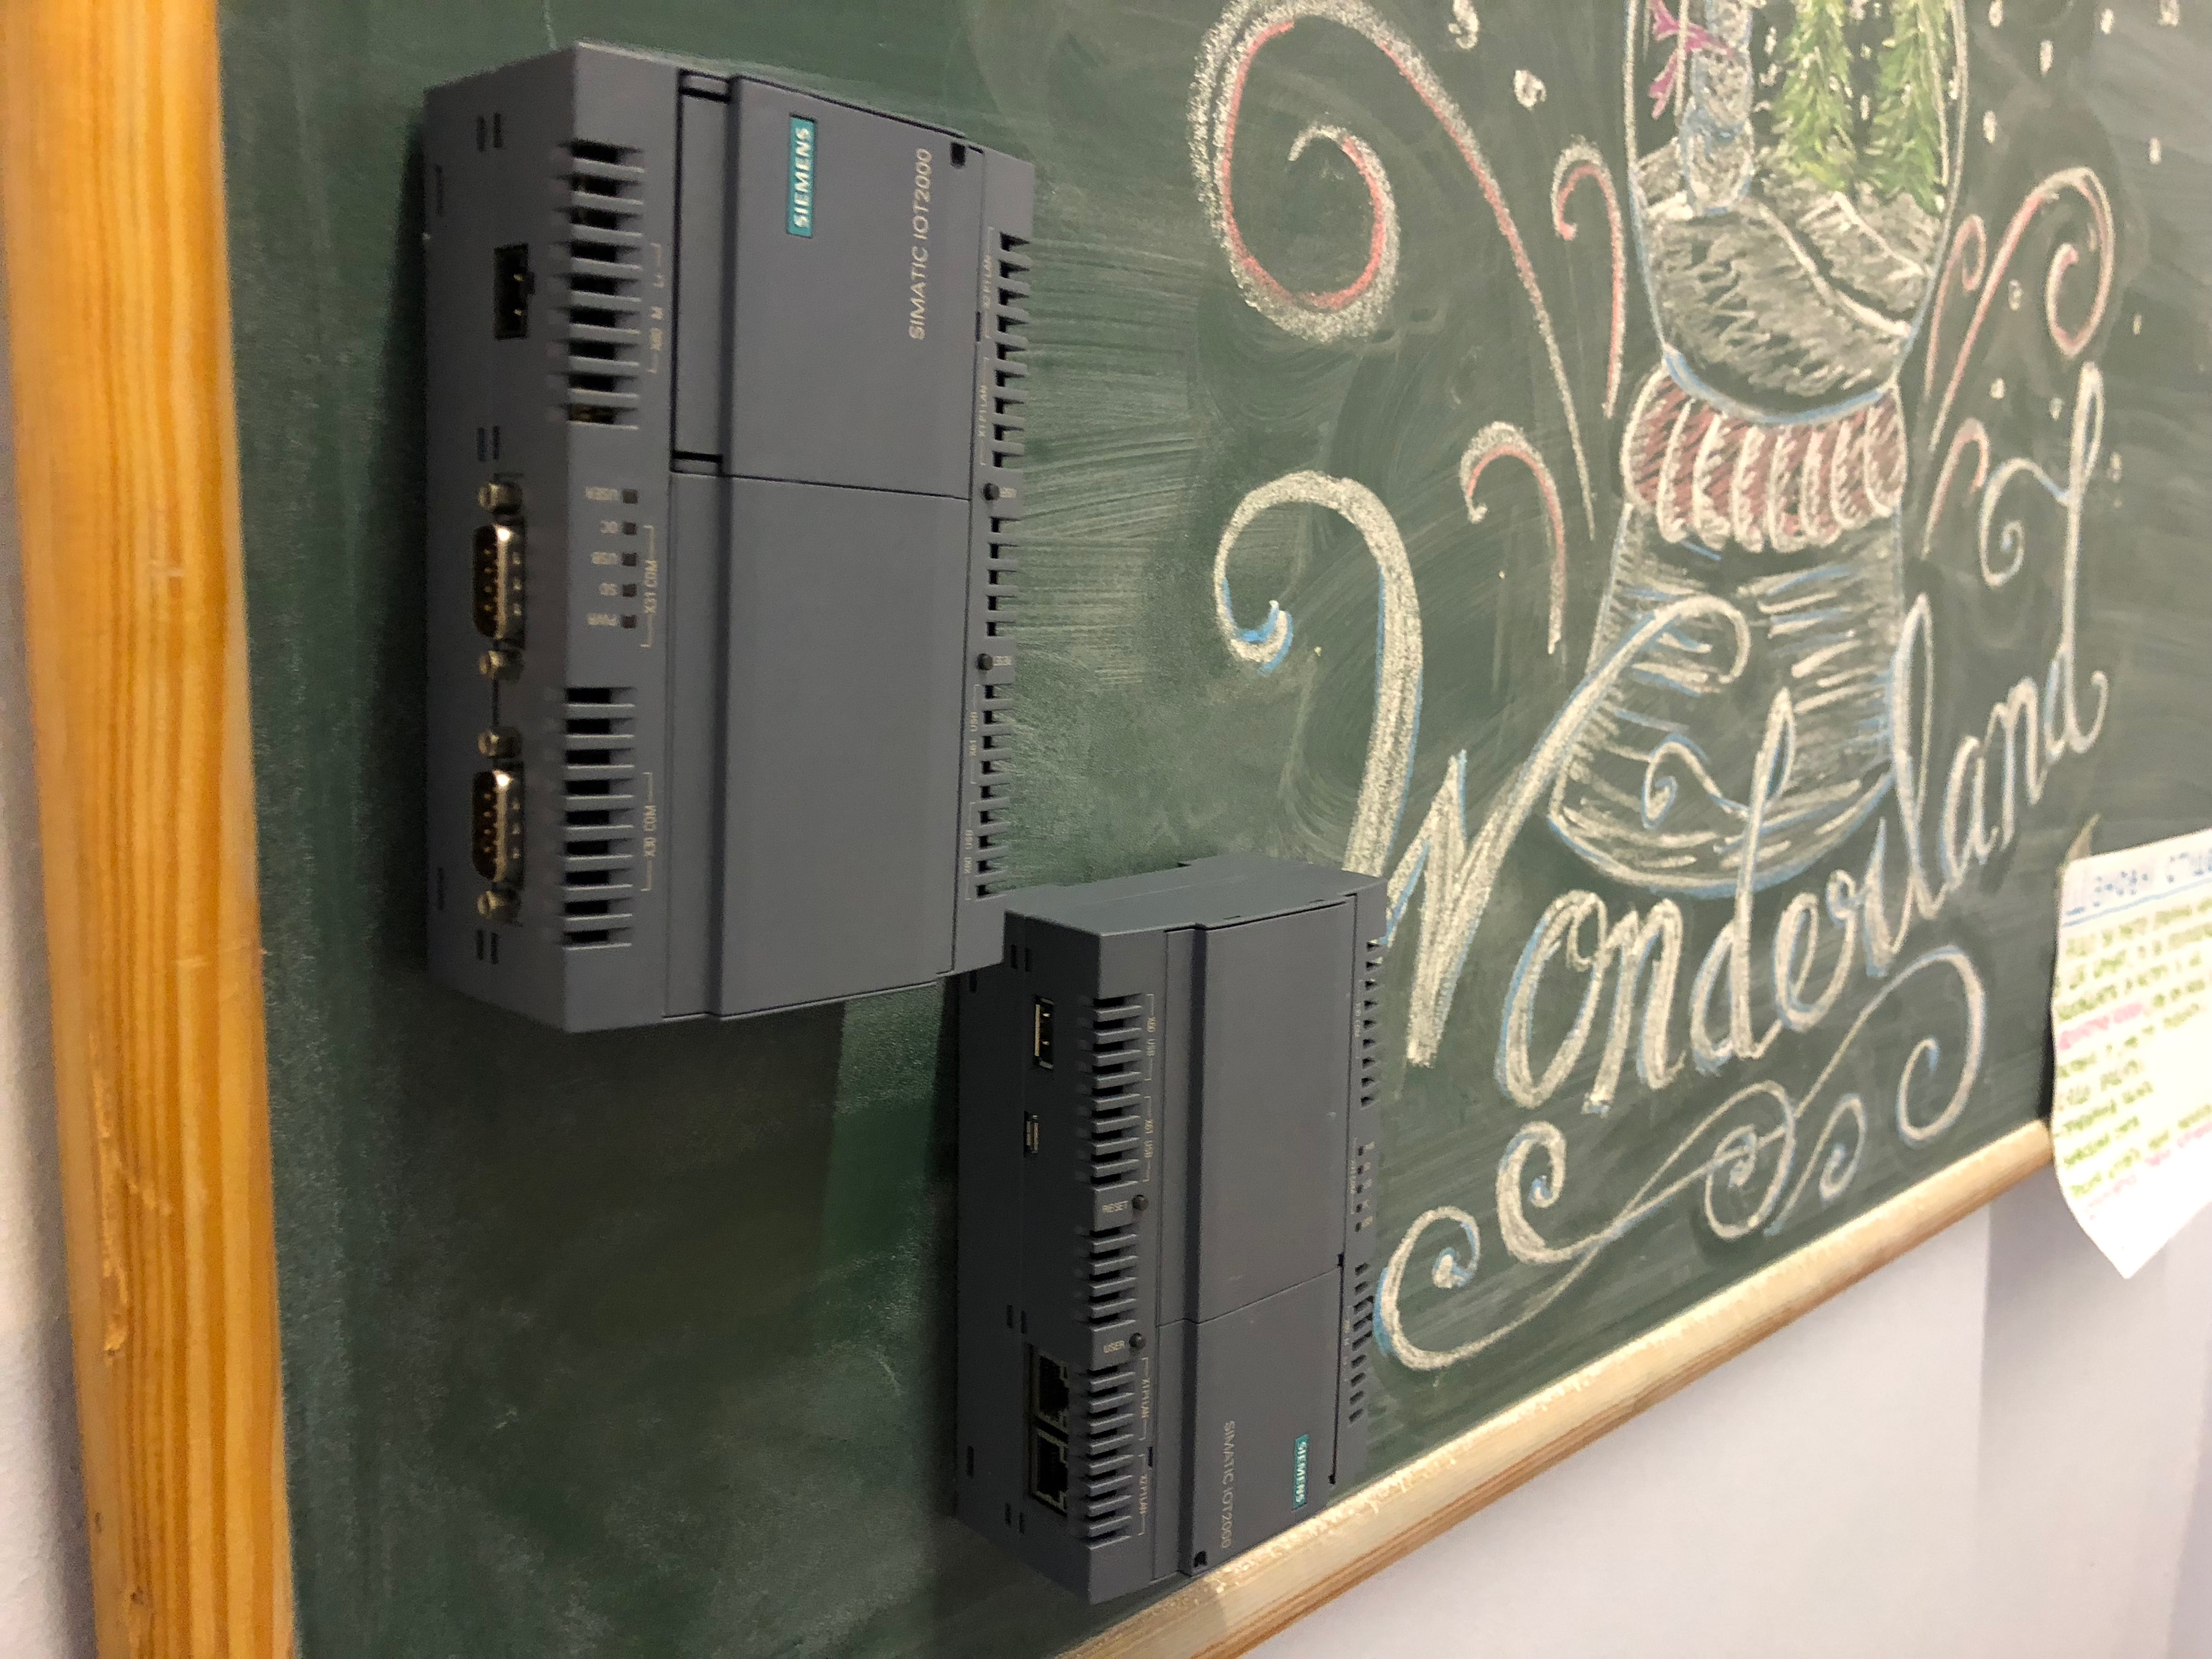device: (425, 40, 1036, 1033), (953, 847, 1388, 1605)
